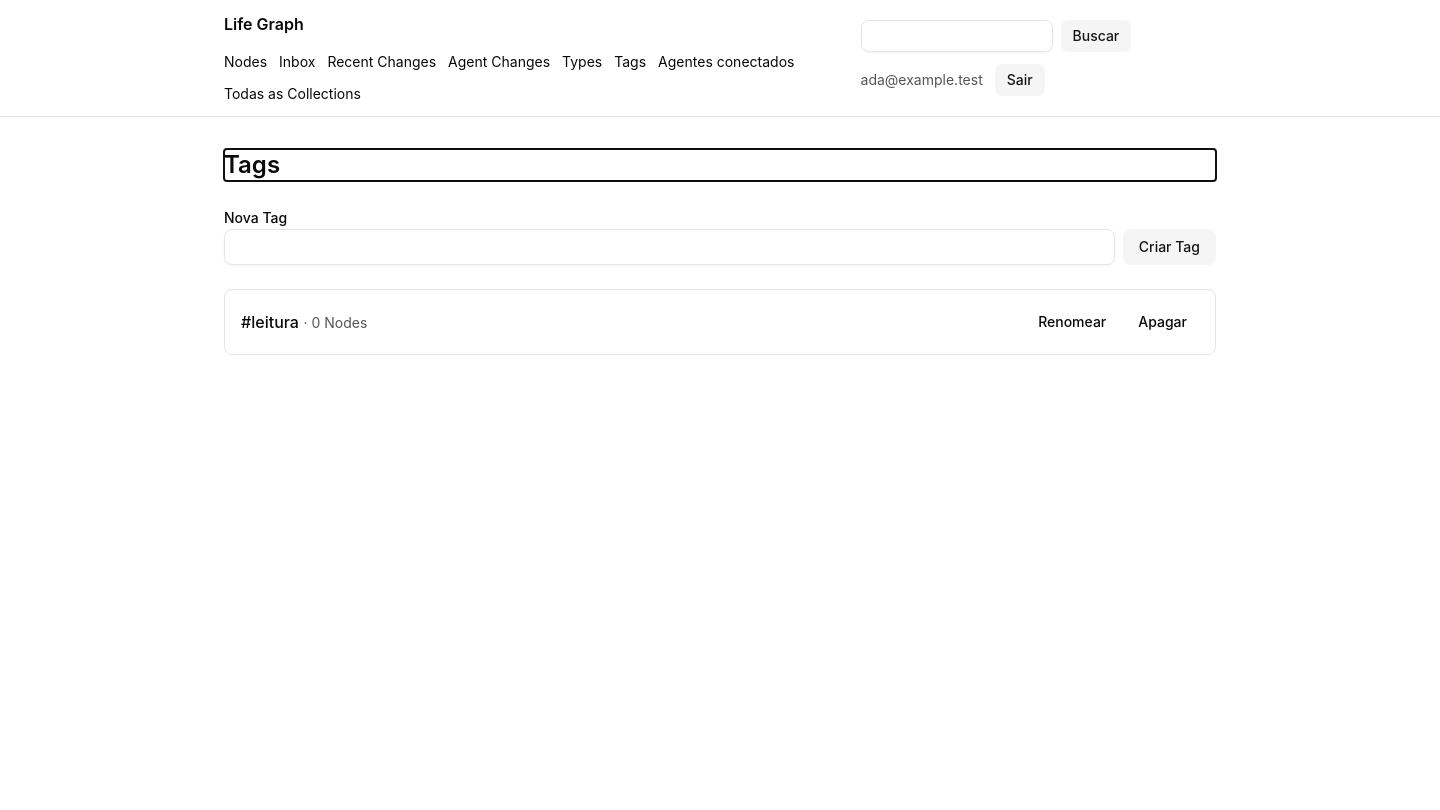
Scenario: tags page › keeps the Tag when the deletion is cancelled
This screenshot has width=1440, height=810.
Click the button named "Apagar leitura" at (1163, 322), box [1126,306,1199,338]
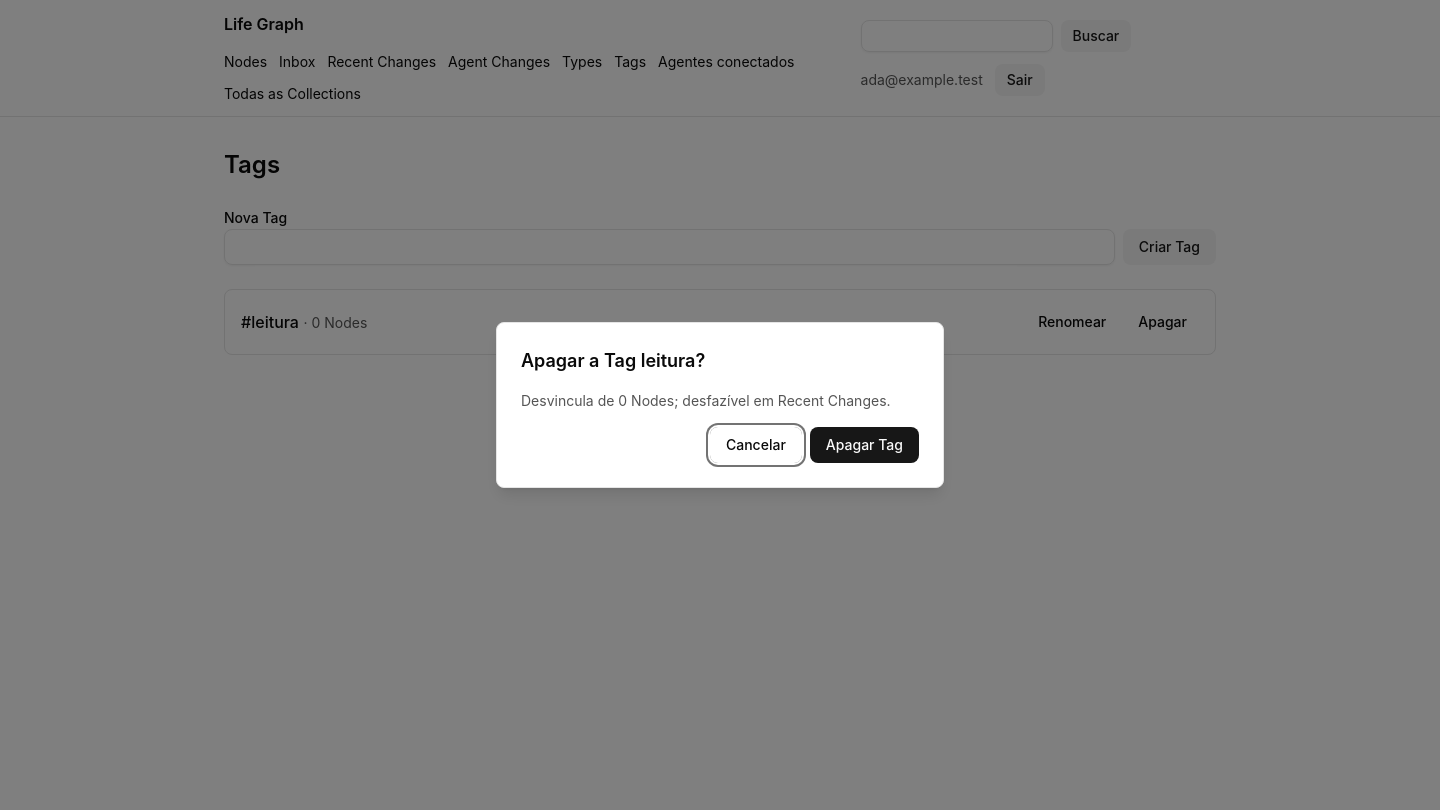
Click the button "Cancelar" at (756, 445), box [710,427,802,463]
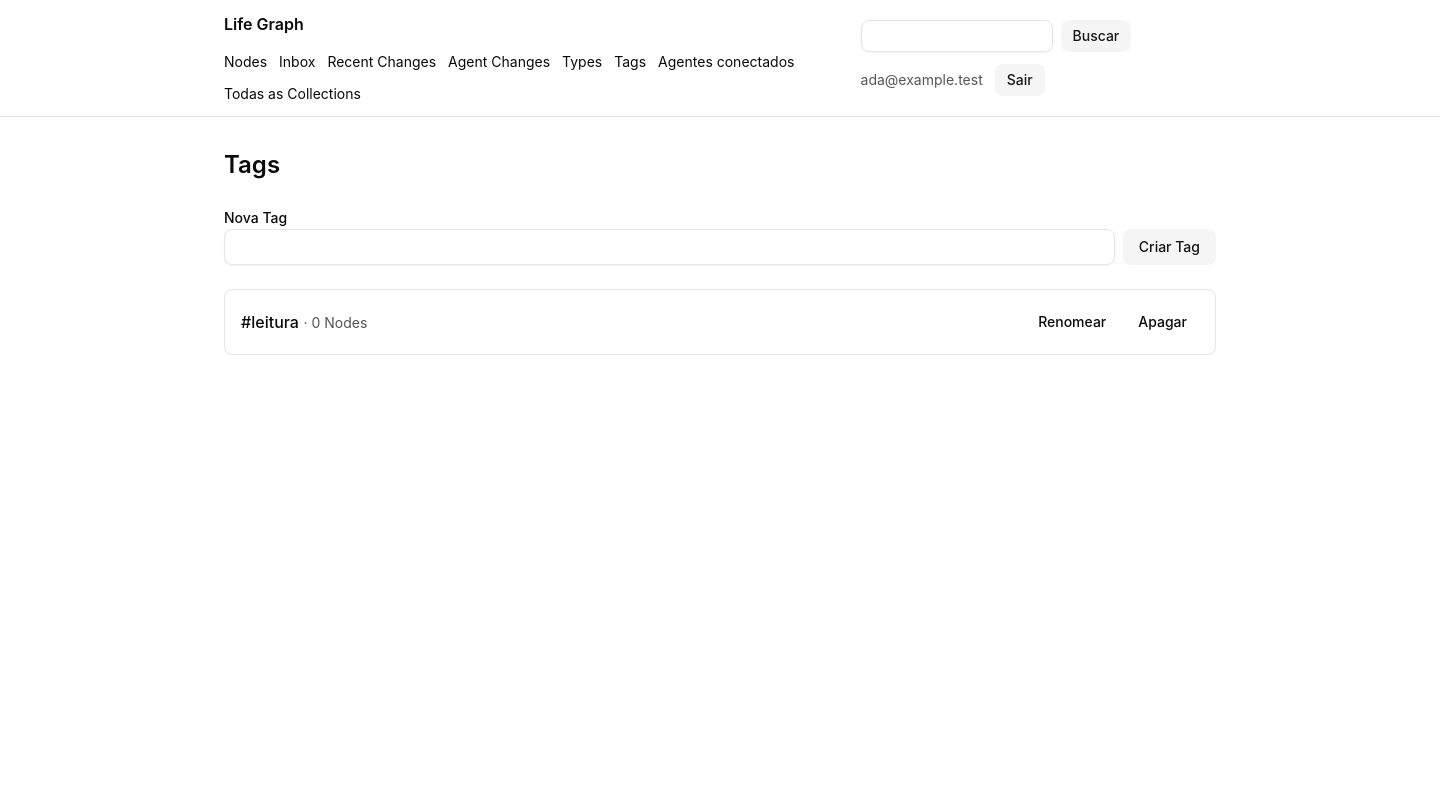
expect the text "#leitura" is shown: met, box [241,312,299,332]
expect the dialog is gone: met
